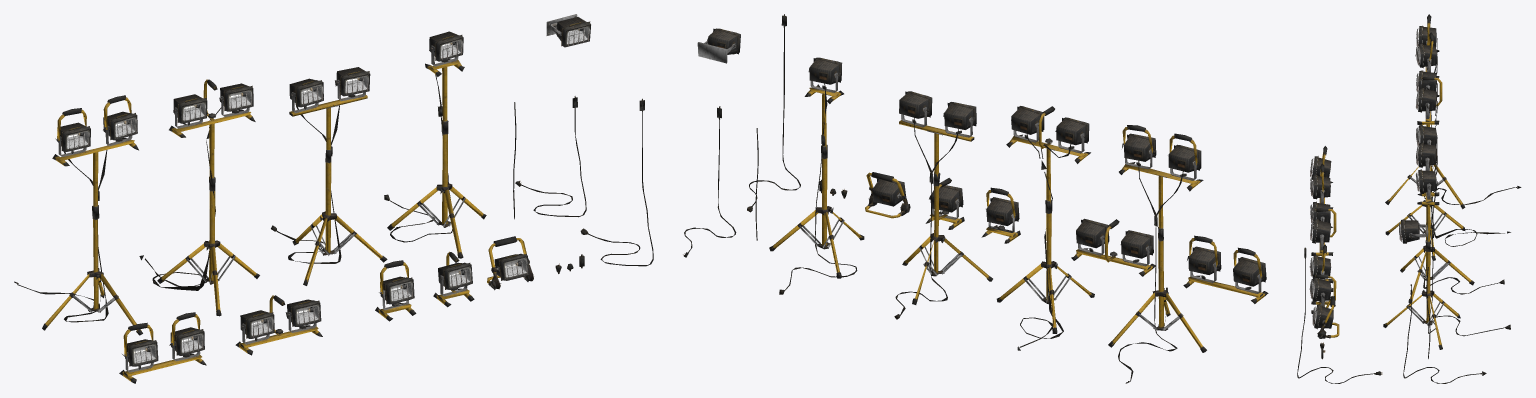
File: flood_lights_1k.fbx
3 renders of one model, left to right at view 1: azimuth 30°, elevation 25°; view 2: azimuth 150°, elevation 25°; view 3: azimuth 270°, elevation 25°, orthographic. The views are drawn at different scales.
Parts seen in each view (by area): view 1: flood_lights_standing_single_stand, flood_lights_standing_double_b_stand, flood_lights_standing_double_c_stand, flood_lights_standing_double_a_stand, flood_lights_standing_double_b_bar, flood_lights_wall_light, flood_lights_standing_double_c_light_02, flood_lights_standing_double_b_light_01, flood_lights_standing_single_light, flood_lights_floor_double_b_light_01, flood_lights_standing_double_c_light_01, flood_lights_standing_double_b_light_02 (+16 smaller); view 2: flood_lights_standing_single_stand, flood_lights_standing_double_a_stand, flood_lights_standing_double_b_stand, flood_lights_standing_double_c_stand, flood_lights_standing_double_c_light_01, flood_lights_floor_double_b_light_01, flood_lights_floor_single_a_light, flood_lights_standing_double_b_light_01, flood_lights_standing_double_c_light_02, flood_lights_standing_single_light, flood_lights_floor_double_a_light_01, flood_lights_standing_double_b_bar (+17 smaller); view 3: flood_lights_standing_single_stand, flood_lights_standing_double_c_stand, flood_lights_standing_double_b_stand, flood_lights_floor_single_b_light, flood_lights_standing_double_b_light_02, flood_lights_standing_double_c_light_02, flood_lights_standing_single_light, flood_lights_floor_double_b_light_02, flood_lights_wall_light, flood_lights_standing_double_a_light_02, flood_lights_floor_single_light_c, flood_lights_floor_double_a_light_02 (+15 smaller).
Boxes of the visible parts, left/top/right/bottom form: flood_lights_standing_single_stand: left=387, top=120, right=486, bottom=258; flood_lights_standing_double_b_stand: left=157, top=176, right=259, bottom=316; flood_lights_standing_double_c_stand: left=292, top=148, right=387, bottom=285; flood_lights_standing_double_a_stand: left=42, top=205, right=142, bottom=335; flood_lights_standing_double_b_bar: left=169, top=109, right=255, bottom=220; flood_lights_wall_light: left=556, top=17, right=590, bottom=47; flood_lights_standing_double_c_light_02: left=335, top=67, right=370, bottom=96; flood_lights_standing_double_b_light_01: left=173, top=94, right=207, bottom=123; flood_lights_standing_single_light: left=429, top=31, right=463, bottom=61; flood_lights_floor_double_b_light_01: left=240, top=310, right=274, bottom=338; flood_lights_standing_double_c_light_01: left=289, top=78, right=323, bottom=107; flood_lights_standing_double_b_light_02: left=219, top=83, right=253, bottom=111; flood_lights_standing_single_stand: left=769, top=145, right=864, bottom=278; flood_lights_standing_double_a_stand: left=1108, top=227, right=1206, bottom=352; flood_lights_standing_double_b_stand: left=996, top=199, right=1094, bottom=333; flood_lights_standing_double_c_stand: left=902, top=172, right=992, bottom=304; flood_lights_standing_double_c_light_01: left=943, top=102, right=976, bottom=129; flood_lights_floor_double_b_light_01: left=1120, top=230, right=1153, bottom=258; flood_lights_floor_single_a_light: left=986, top=197, right=1019, bottom=225; flood_lights_standing_double_b_light_01: left=1055, top=117, right=1089, bottom=145; flood_lights_standing_double_c_light_02: left=899, top=91, right=932, bottom=118; flood_lights_standing_single_light: left=808, top=57, right=842, bottom=84; flood_lights_floor_double_a_light_01: left=1233, top=257, right=1266, bottom=286; flood_lights_standing_double_b_bar: left=1006, top=134, right=1090, bottom=241; flood_lights_standing_single_stand: left=1383, top=240, right=1460, bottom=349; flood_lights_standing_double_c_stand: left=1400, top=205, right=1474, bottom=303; flood_lights_standing_double_b_stand: left=1385, top=200, right=1465, bottom=260; flood_lights_floor_single_b_light: left=1309, top=277, right=1331, bottom=302; flood_lights_standing_double_b_light_02: left=1416, top=87, right=1437, bottom=112; flood_lights_standing_double_c_light_02: left=1416, top=142, right=1437, bottom=167; flood_lights_standing_single_light: left=1416, top=169, right=1436, bottom=194; flood_lights_floor_double_b_light_02: left=1310, top=219, right=1330, bottom=243; flood_lights_wall_light: left=1399, top=219, right=1419, bottom=243; flood_lights_standing_double_a_light_02: left=1415, top=43, right=1437, bottom=68; flood_lights_floor_single_light_c: left=1312, top=304, right=1333, bottom=329; flood_lights_floor_double_a_light_02: left=1310, top=174, right=1330, bottom=199.
Size of the model in its own units: 460 by 180 by 212.
Materials: 2 (2 with a texture image).
